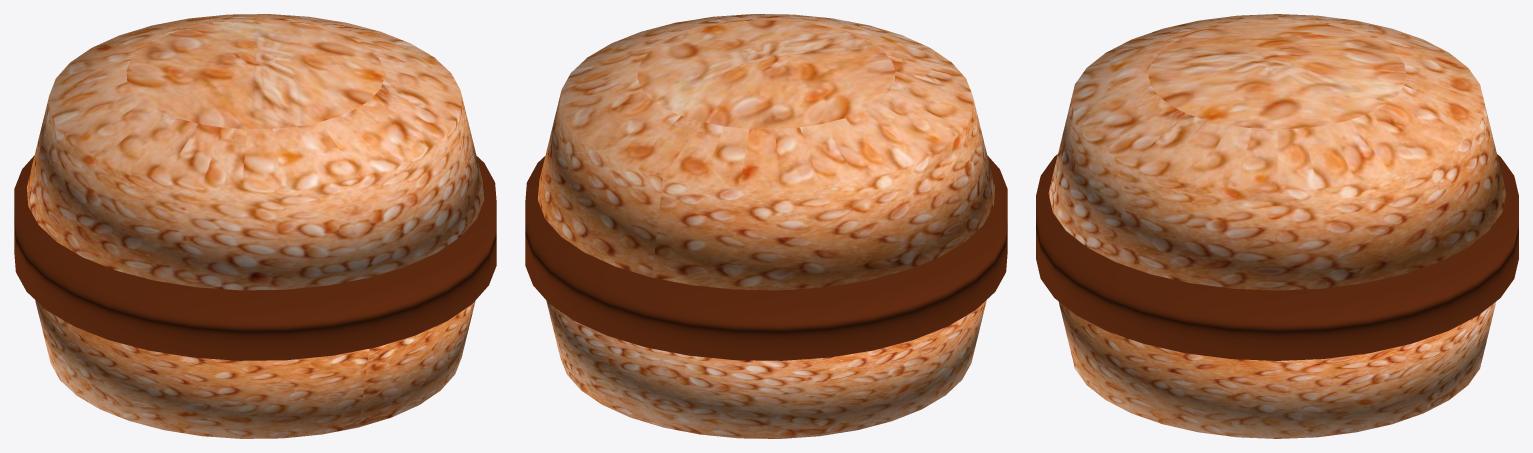
The picture shows the model from 3 angles, left to right: view 1: azimuth 30°, elevation 25°; view 2: azimuth 150°, elevation 25°; view 3: azimuth 270°, elevation 25°; orthographic projection.
Parts seen in each view (by area): view 1: Cilindro, Cilindro.002, Cilindro.001; view 2: Cilindro, Cilindro.002, Cilindro.001; view 3: Cilindro, Cilindro.002, Cilindro.001.
Boxes of the visible parts, x1=… form: Cilindro: x1=27, y1=14, x2=483, y2=290; Cilindro.002: x1=14, y1=155, x2=496, y2=360; Cilindro.001: x1=35, y1=300, x2=475, y2=438; Cilindro: x1=538, y1=14, x2=994, y2=290; Cilindro.002: x1=525, y1=155, x2=1007, y2=360; Cilindro.001: x1=546, y1=300, x2=986, y2=438; Cilindro: x1=1048, y1=14, x2=1506, y2=290; Cilindro.002: x1=1036, y1=154, x2=1518, y2=360; Cilindro.001: x1=1058, y1=301, x2=1496, y2=438.
Bounding box in the file's own units: 234 × 178 × 234.
1 material, 1 textured.
